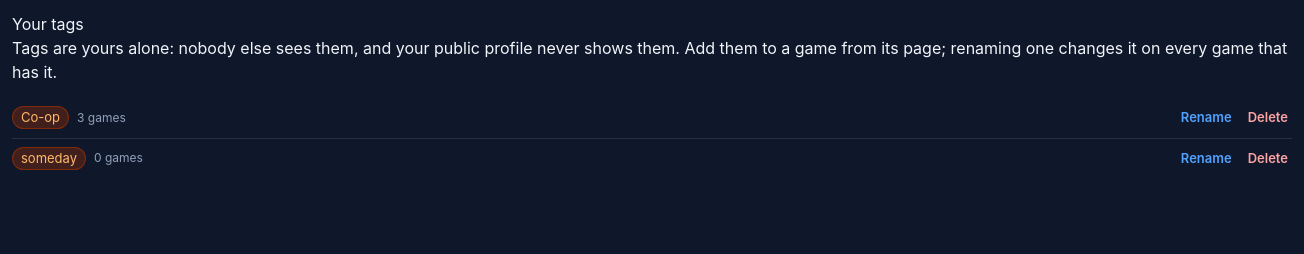
Scenario: TagsCard renaming › keeps the focus in the box when the rename is refused, so the name can be fixed there
The image size is (1304, 254).
Click the button with aria-label "Rename Co-op" at coordinates (1206, 118), box [1177, 106, 1236, 130]
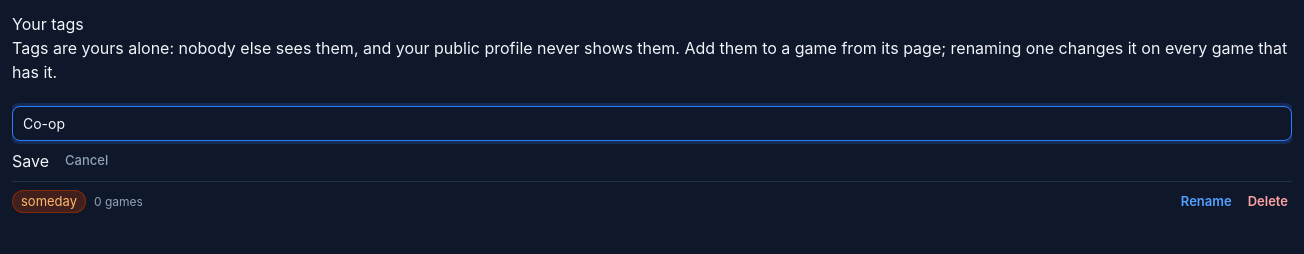
Replace the text in the field named "New name for Co-op" with "someday" at coordinates (652, 124), box [12, 106, 1292, 141]
Then press Enter
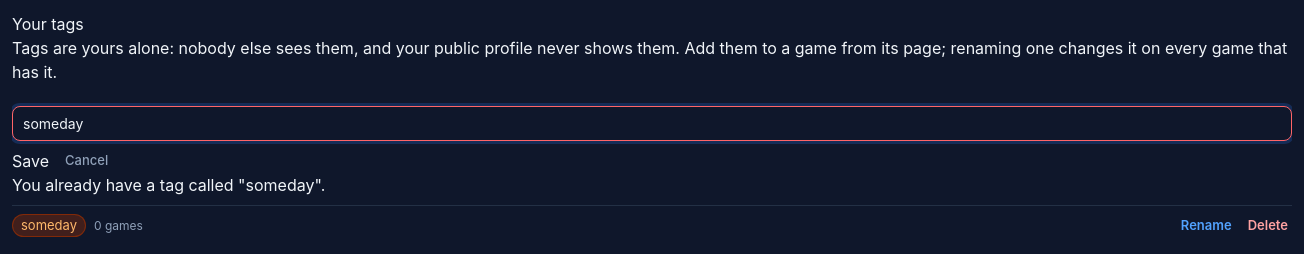
Now the message "You already have a tag called \"someday\"." is shown, box [12, 175, 325, 195]
